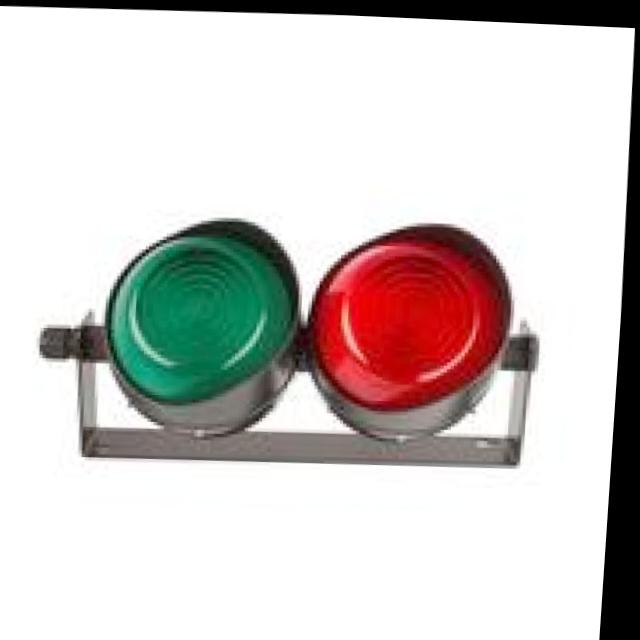green_light: (98, 193, 306, 423)
red_light: (324, 192, 528, 443)
